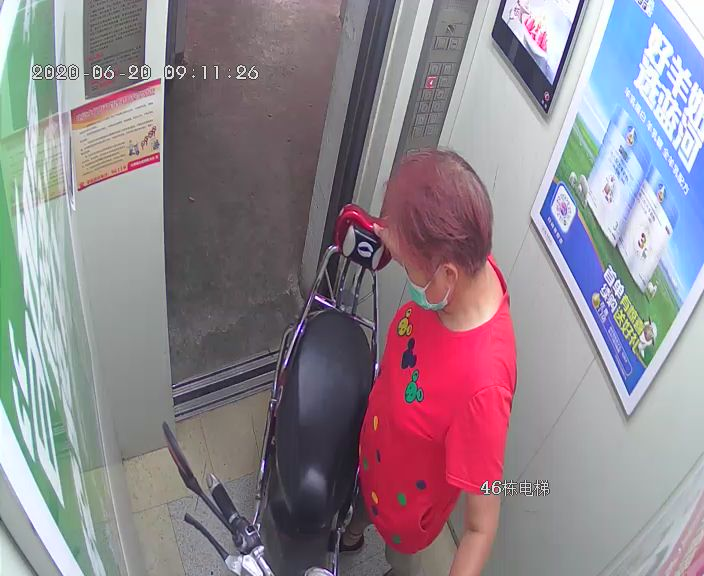Electric-bicycle: (165, 204, 397, 574)
